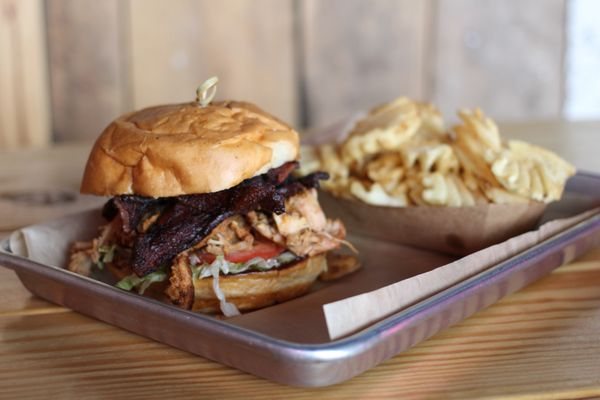soup: (68, 96, 357, 313), (304, 95, 582, 256)
